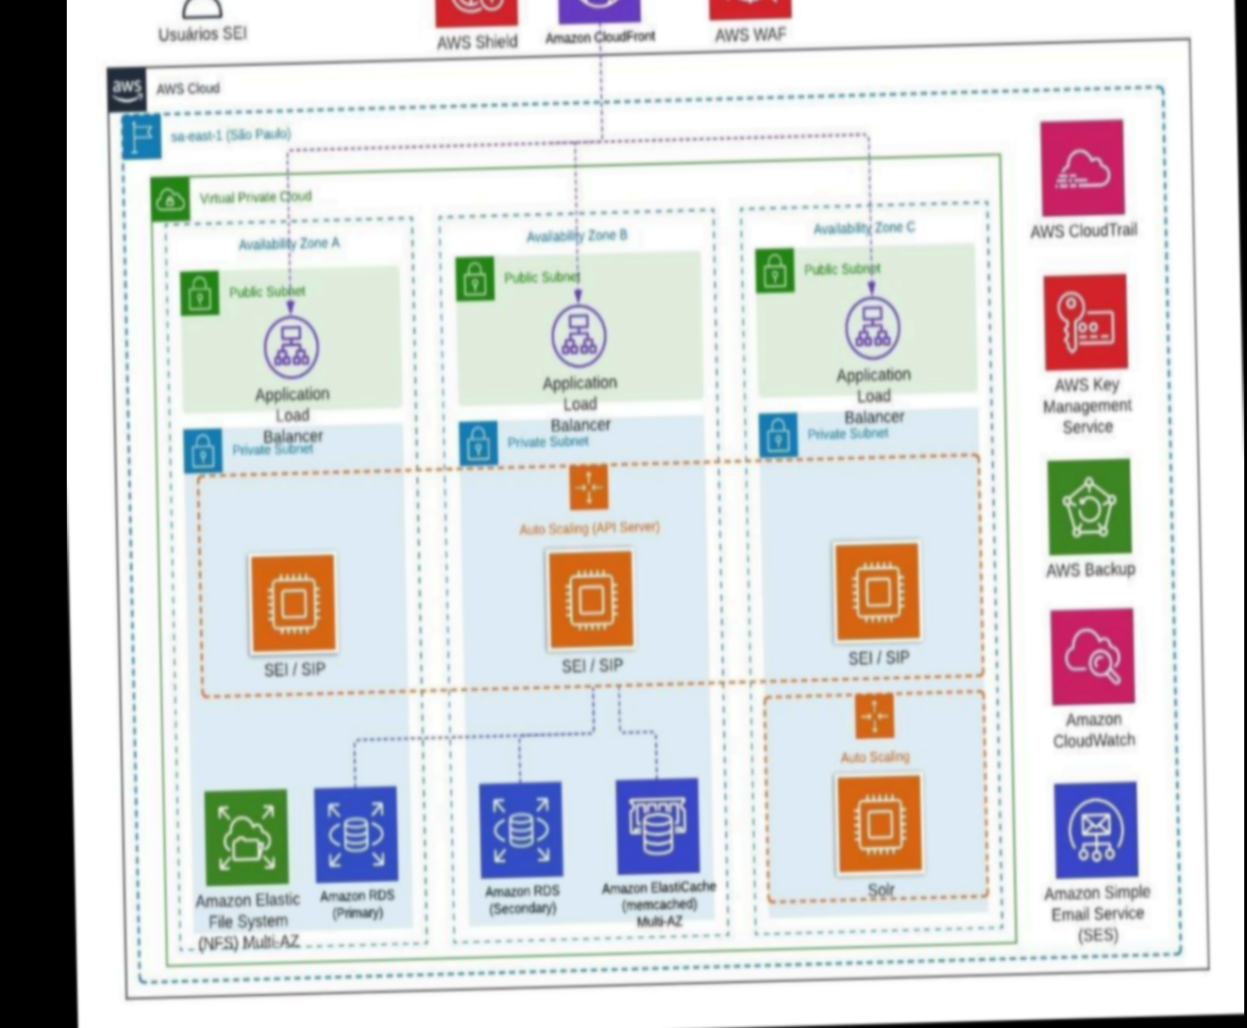aws_application_load_balancer: (258, 312, 321, 379), (840, 293, 903, 360), (545, 301, 608, 368)
aws_autoscaling: (568, 463, 606, 509), (856, 692, 892, 736)
aws_backup: (1047, 457, 1129, 554)
aws_cloud: (103, 65, 146, 108)
aws_cloud_trail: (1040, 117, 1122, 214)
aws_cloudfront: (554, 0, 640, 24)
aws_cloudwatch: (1050, 610, 1132, 705)
aws_elactic_file_system(nfs)_multi-az: (205, 788, 287, 886)
aws_elasticache: (613, 780, 699, 876)
aws_key_management_service: (1042, 273, 1128, 372)
aws_private_subnet: (757, 411, 796, 460), (459, 418, 498, 464), (182, 427, 221, 471)
aws_public_subnet: (431, 0, 517, 29), (177, 268, 219, 316), (454, 254, 493, 302), (755, 247, 792, 291)
aws_rds: (480, 782, 562, 874), (315, 786, 397, 879)
aws_region: (119, 111, 162, 158)
aws_simple_email_service: (1053, 781, 1138, 880)
aws_virtual_private_cloud: (150, 176, 190, 222)
aws_waf: (701, 0, 793, 23)
sei/sip: (545, 545, 633, 648), (248, 550, 336, 653), (832, 537, 920, 640)
solr: (836, 772, 920, 868)
user: (164, 0, 235, 20)
